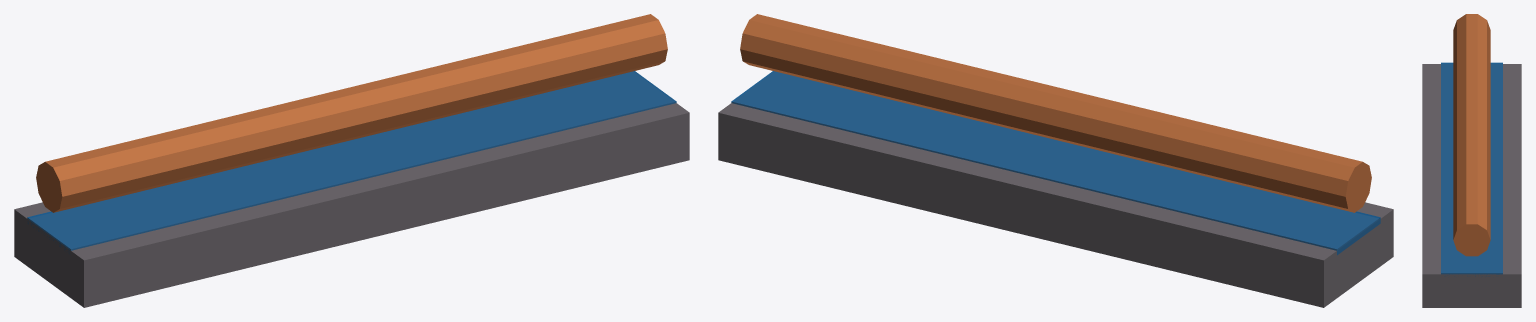
Rendered from Prop_OR_Channel_04.glb.
3 renders of one model, left to right at view 1: azimuth 30°, elevation 25°; view 2: azimuth 150°, elevation 25°; view 3: azimuth 270°, elevation 25°, orthographic. The views are drawn at different scales.
Visible parts, largest first — view 1: Prop_OR_Channel_04; view 2: Prop_OR_Channel_04; view 3: Prop_OR_Channel_04.
Boxes of the visible parts, x1,y1,x2,y2 form: Prop_OR_Channel_04: (14,14,689,307); Prop_OR_Channel_04: (718,14,1393,307); Prop_OR_Channel_04: (1422,14,1521,307).
Bounding box in the file's own units: 4 × 0.7427 × 0.8.
